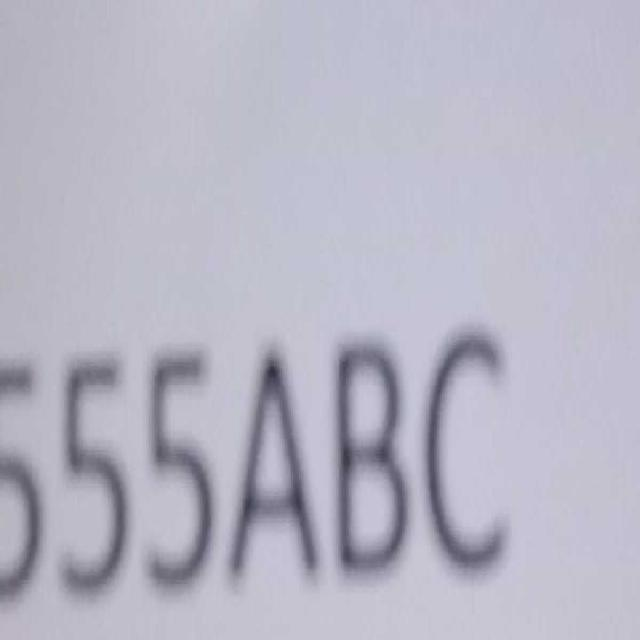license_plate: (0, 302, 523, 640)
